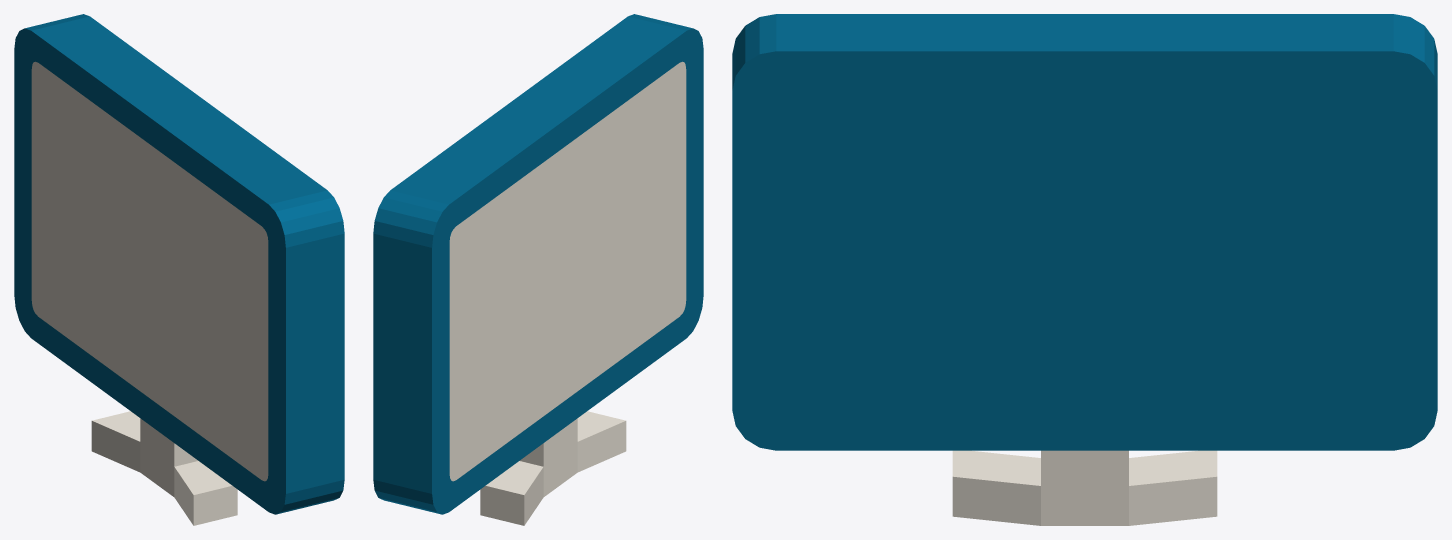
The model's file is G01_007_Monitor.fbx.
3 views of the same model, side by side, from view 1: azimuth 30°, elevation 25°; view 2: azimuth 150°, elevation 25°; view 3: azimuth 270°, elevation 25° (orthographic). The views are drawn at different scales.
Parts seen in each view (by area): view 1: 立方体.044, 立方体.045; view 2: 立方体.044, 立方体.045; view 3: 立方体.044, 立方体.045.
Boxes of the visible parts, box(x1,y1,x2,y2) form: 立方体.044: box(14, 14, 344, 514); 立方体.045: box(91, 411, 237, 525); 立方体.044: box(373, 14, 703, 514); 立方体.045: box(480, 411, 626, 525); 立方体.044: box(732, 14, 1437, 450); 立方体.045: box(952, 450, 1217, 525).
Size of the model in its own units: 22.5 by 120 by 160.
